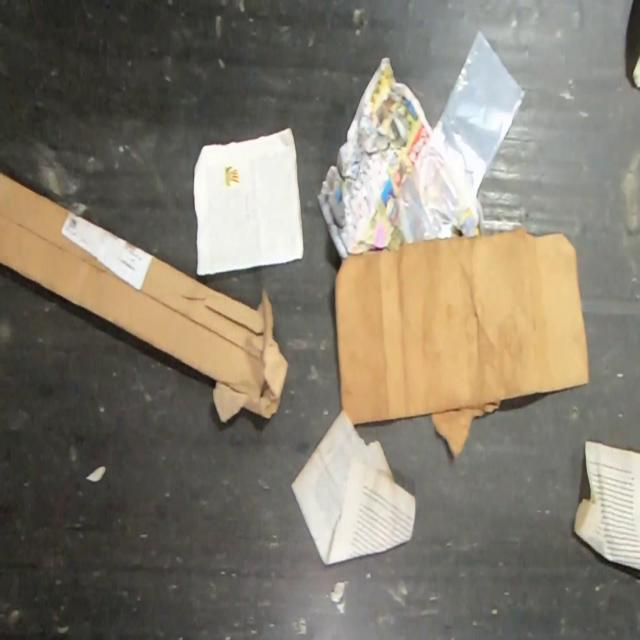cardboard: (0, 170, 290, 425), (333, 223, 590, 462)
soft_plastic: (388, 25, 526, 243)
